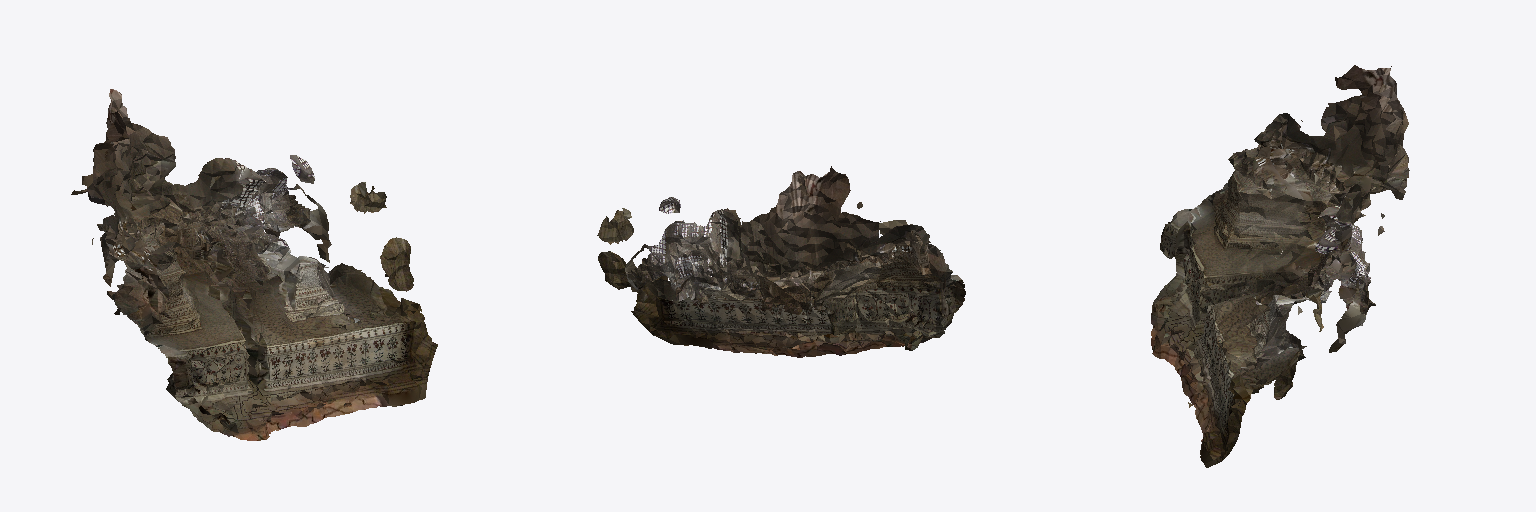
The picture shows the model from 3 angles: view 1: azimuth 30°, elevation 25°; view 2: azimuth 150°, elevation 25°; view 3: azimuth 270°, elevation 25°; orthographic projection.
Visible parts, largest first — view 1: tajmahal:Mesh; view 2: tajmahal:Mesh; view 3: tajmahal:Mesh.
Part boxes in pixels (left/top/right/bottom): tajmahal:Mesh: left=71, top=89, right=437, bottom=440; tajmahal:Mesh: left=597, top=166, right=965, bottom=357; tajmahal:Mesh: left=1151, top=65, right=1409, bottom=467.
Size of the model in its own units: 124 by 108 by 85.53.
Materials: 1 (1 with a texture image).